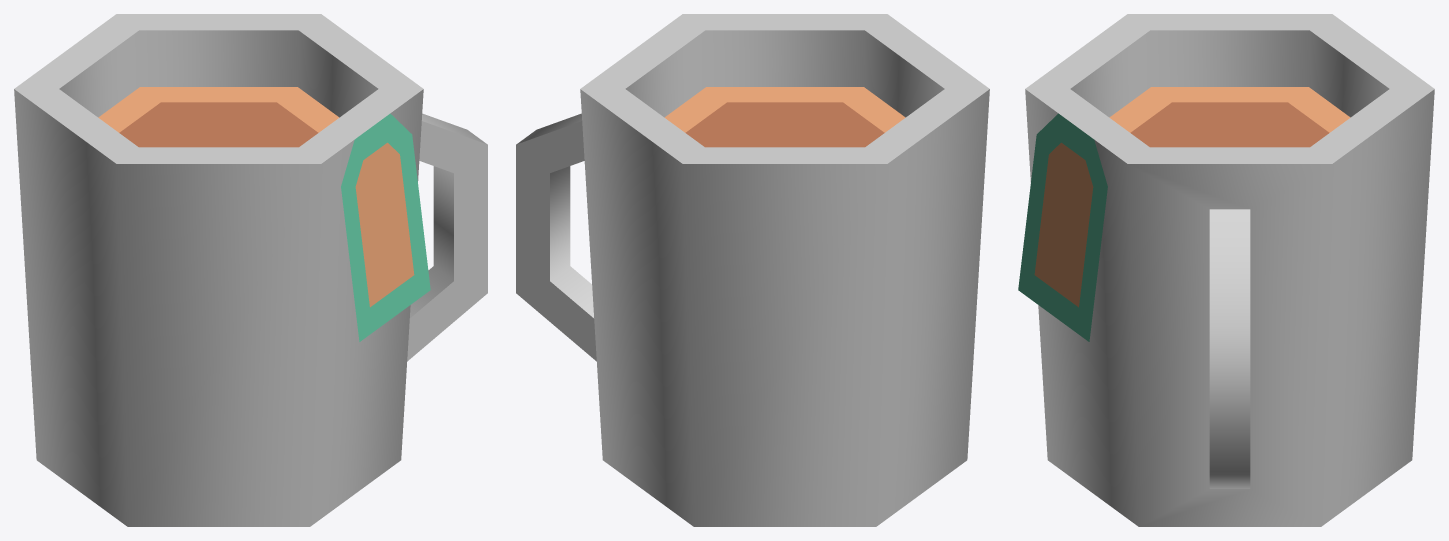
File: Cup Tea.glb
The picture shows the model from 3 angles, left to right: view 1: azimuth 30°, elevation 25°; view 2: azimuth 150°, elevation 25°; view 3: azimuth 270°, elevation 25°; orthographic projection.
Visible parts, largest first — view 1: Cup Tea; view 2: Cup Tea; view 3: Cup Tea.
Part boxes in pixels (box(x1,y1,x2,y2)): Cup Tea: box(14, 14, 487, 526); Cup Tea: box(516, 14, 989, 526); Cup Tea: box(1018, 14, 1434, 526).
Bounding box in the file's own units: 0.1023 × 0.088 × 0.0895.
